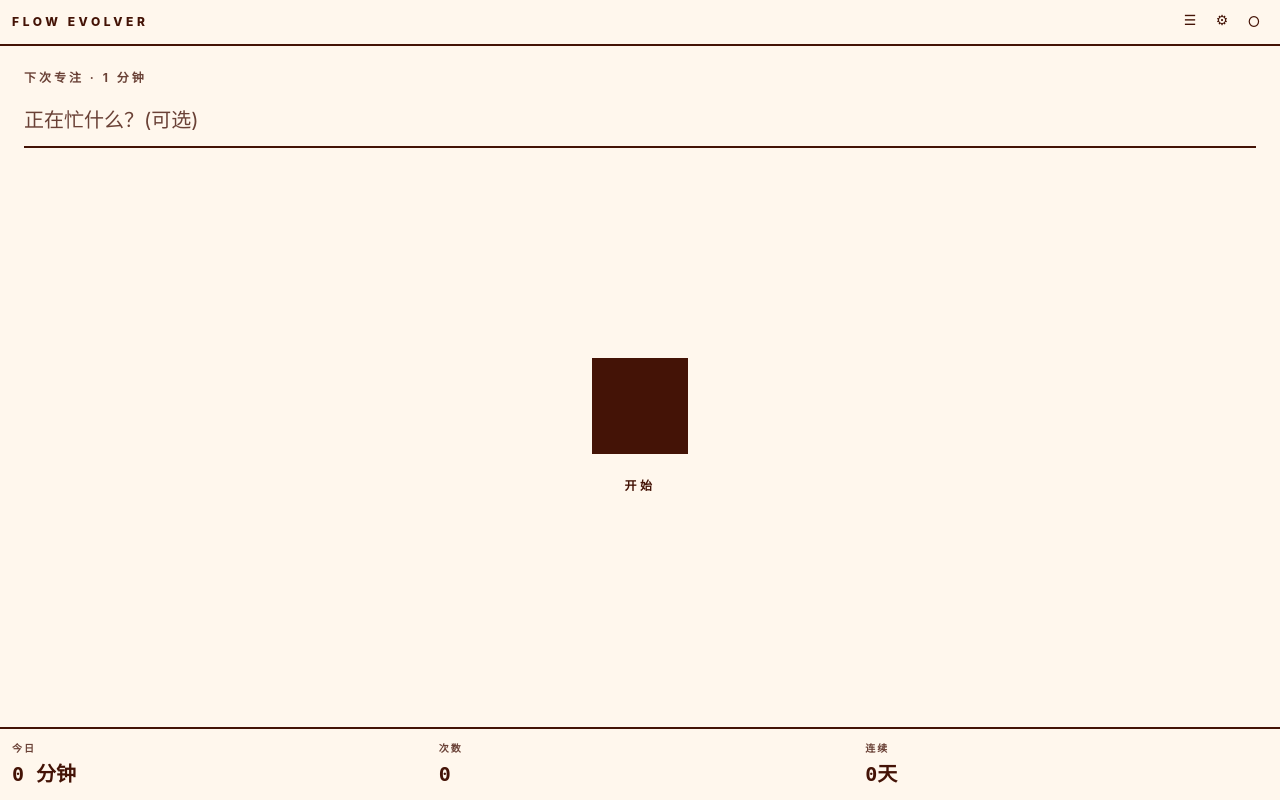
Test: history sheet › shows recent sessions newest-first with rating/autoflow marks
Expected: the text "下次专注 · 1 分钟" is shown, [24,70,147,85]
Click the button named "历史".
click(1190, 22)  # box [1176,8,1204,36]
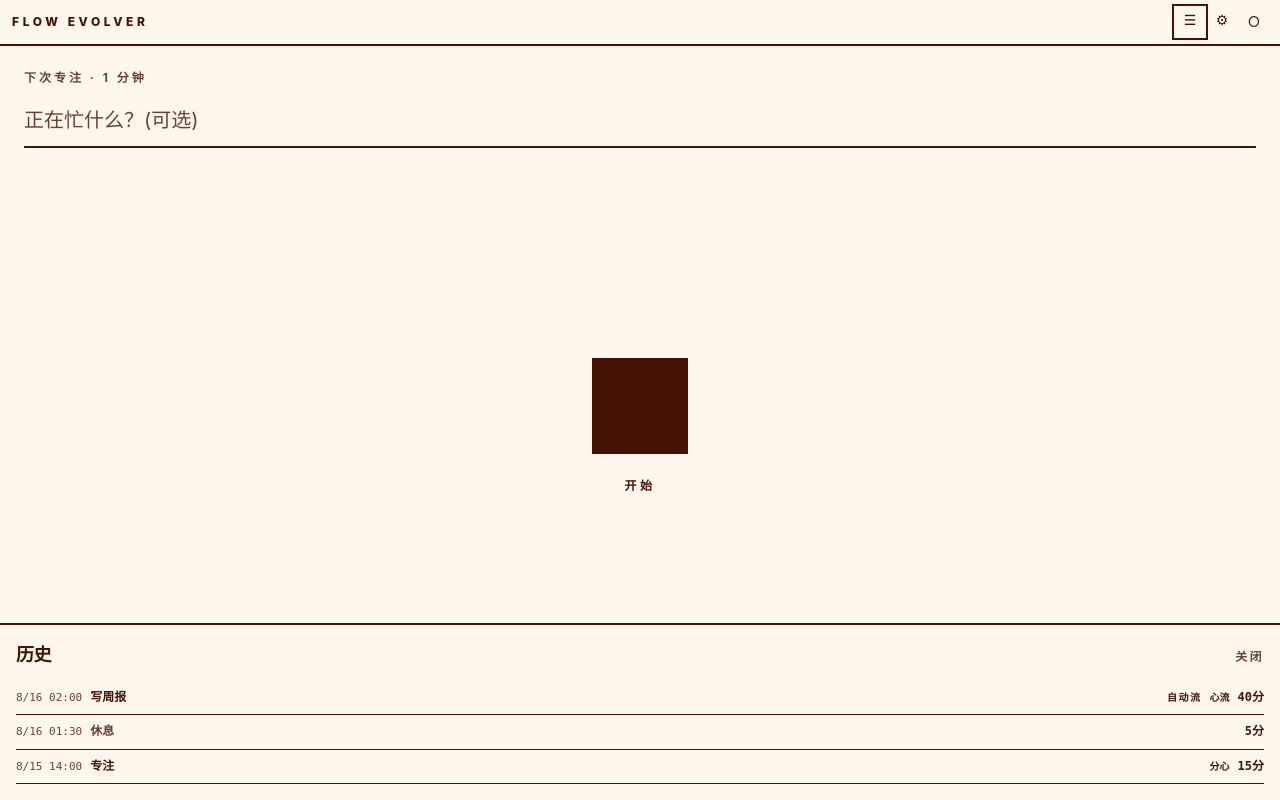
Expected: the dialog named "历史记录" shows "写周报", [90,688,126,704]
Expected: the dialog named "历史记录" shows "自动流", [1167,690,1202,702]
Expected: the dialog named "历史记录" shows "心流", [1210,690,1230,702]
